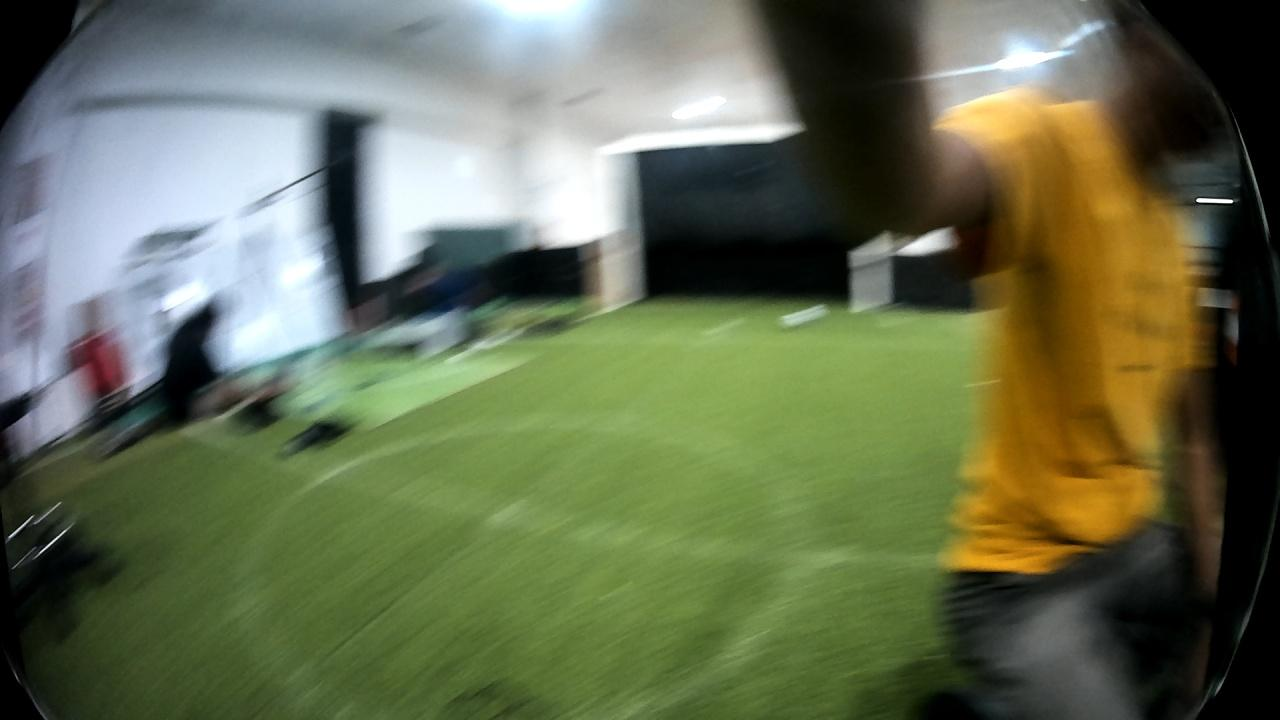ball: (777, 298, 831, 330)
